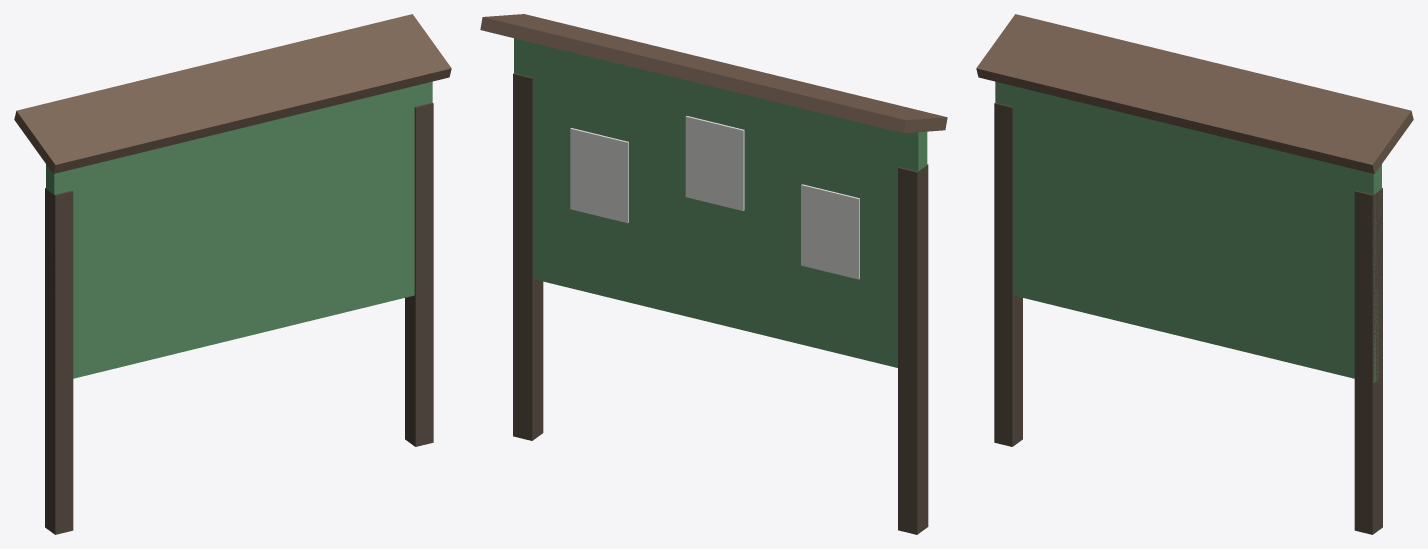
The model's file is prop_keijiban.glb.
3 renders of one model, left to right at view 1: azimuth 30°, elevation 25°; view 2: azimuth 150°, elevation 25°; view 3: azimuth 330°, elevation 25°, orthographic. The views are drawn at different scales.
Visible parts, largest first — view 1: keijiban; view 2: keijiban; view 3: keijiban.
Part boxes in pixels (x1,y1,x2,y2): keijiban: (14,14,451,534); keijiban: (480,14,947,534); keijiban: (976,14,1413,534).
Size of the model in its own units: 2.2 by 2.15 by 0.3964.
